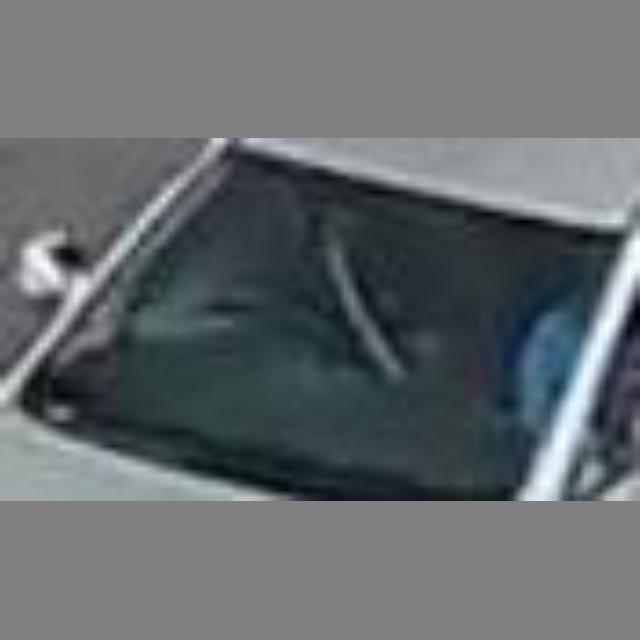pakai: (196, 182, 465, 393)
